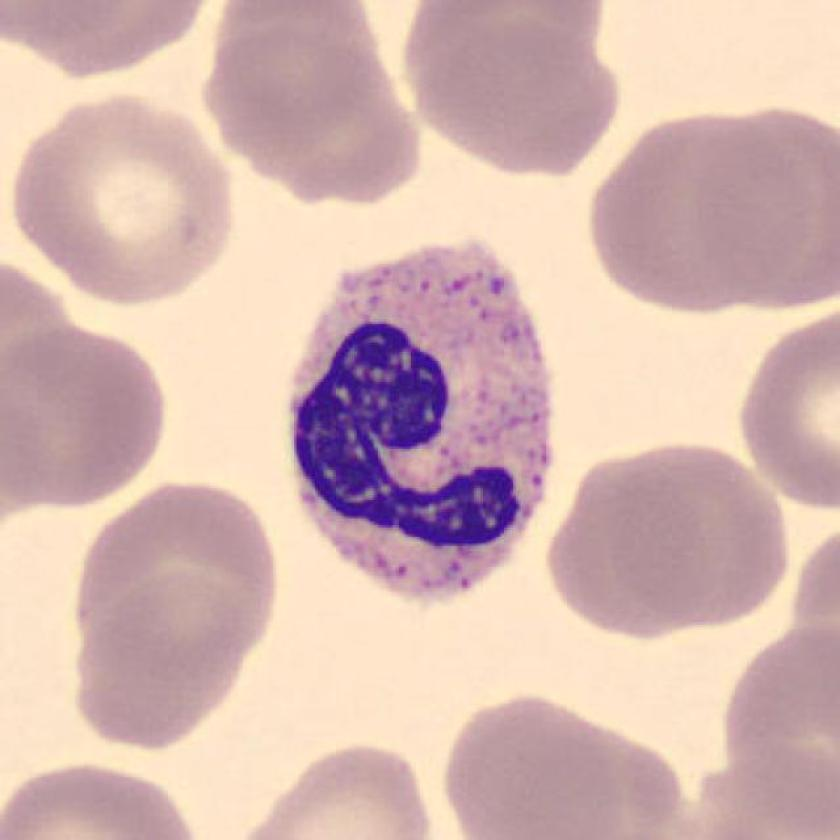neutrophil: (291, 240, 552, 603)
